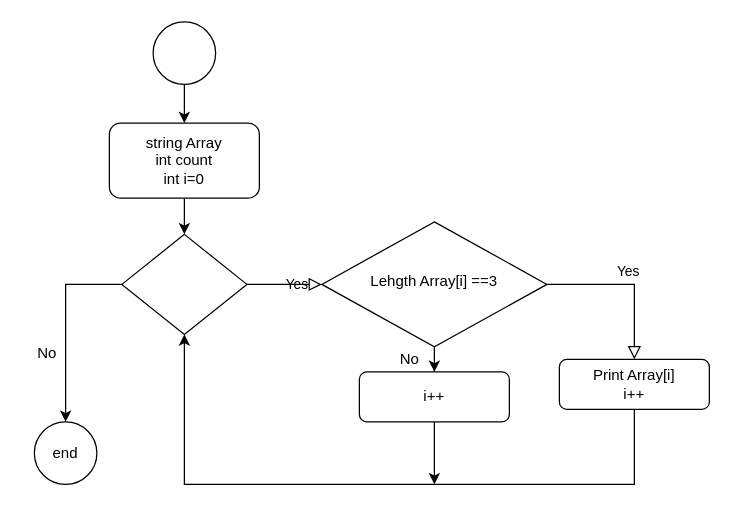
This 731x516 diagram has some shape labels left out. The shapes that lost their labels are listed below. From the top down, each one's centre as x and y in pixels, then its label:
the point at 184,52: start
the point at 184,283: i < count
